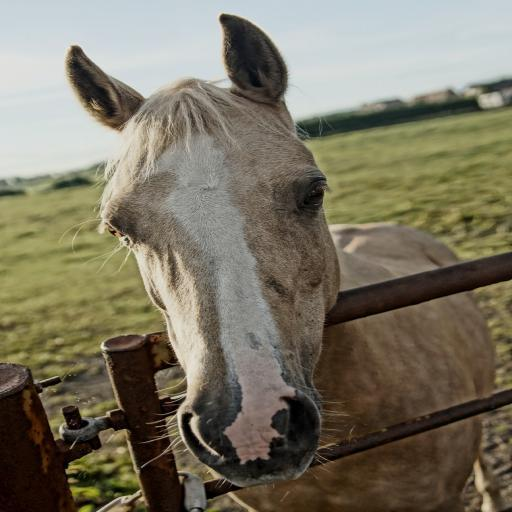Horse: (63, 14, 511, 512)
